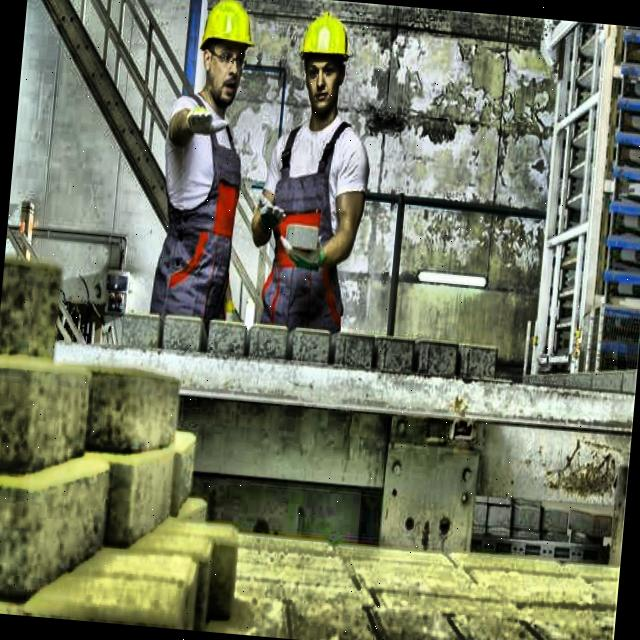helmet: (288, 2, 358, 118), (187, 0, 260, 110)
